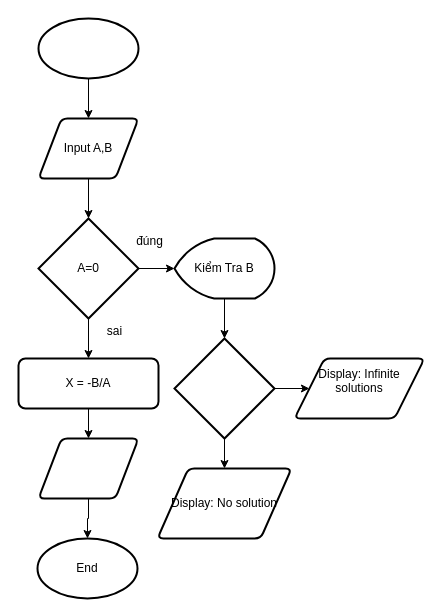
Some shapes in this 442 by 616 pixel diagram are drawn without their labels. The centre of each missing label's shape, as x and y in pixels:
"B=0" belongs at (224,388).
"Display X" belongs at (88,468).
"start" belongs at (88,48).
